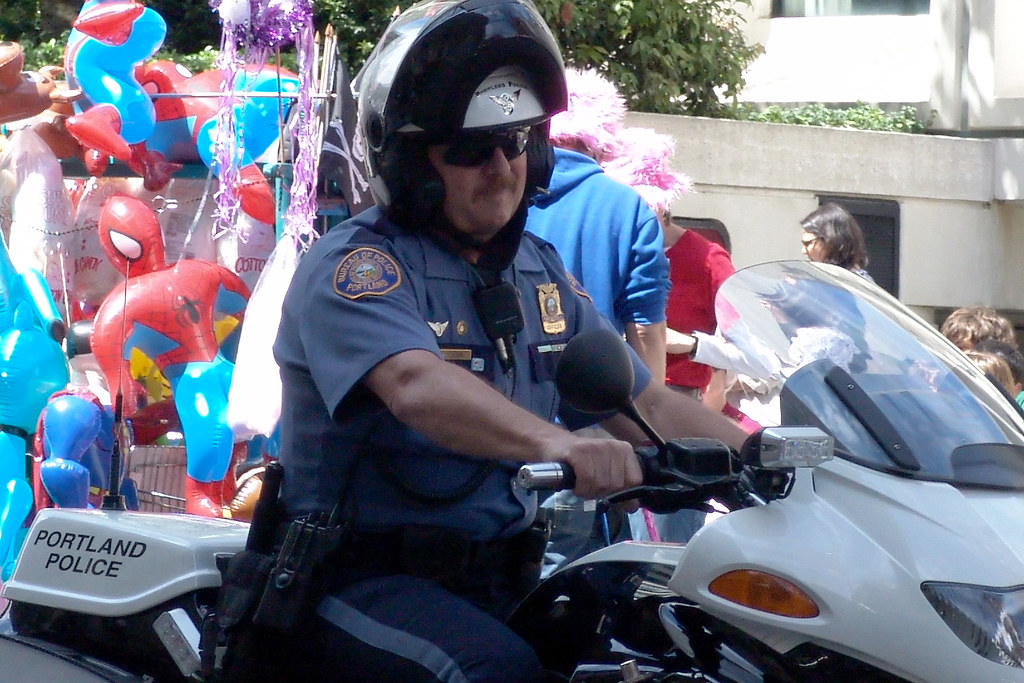helmet: (351, 14, 554, 140)
